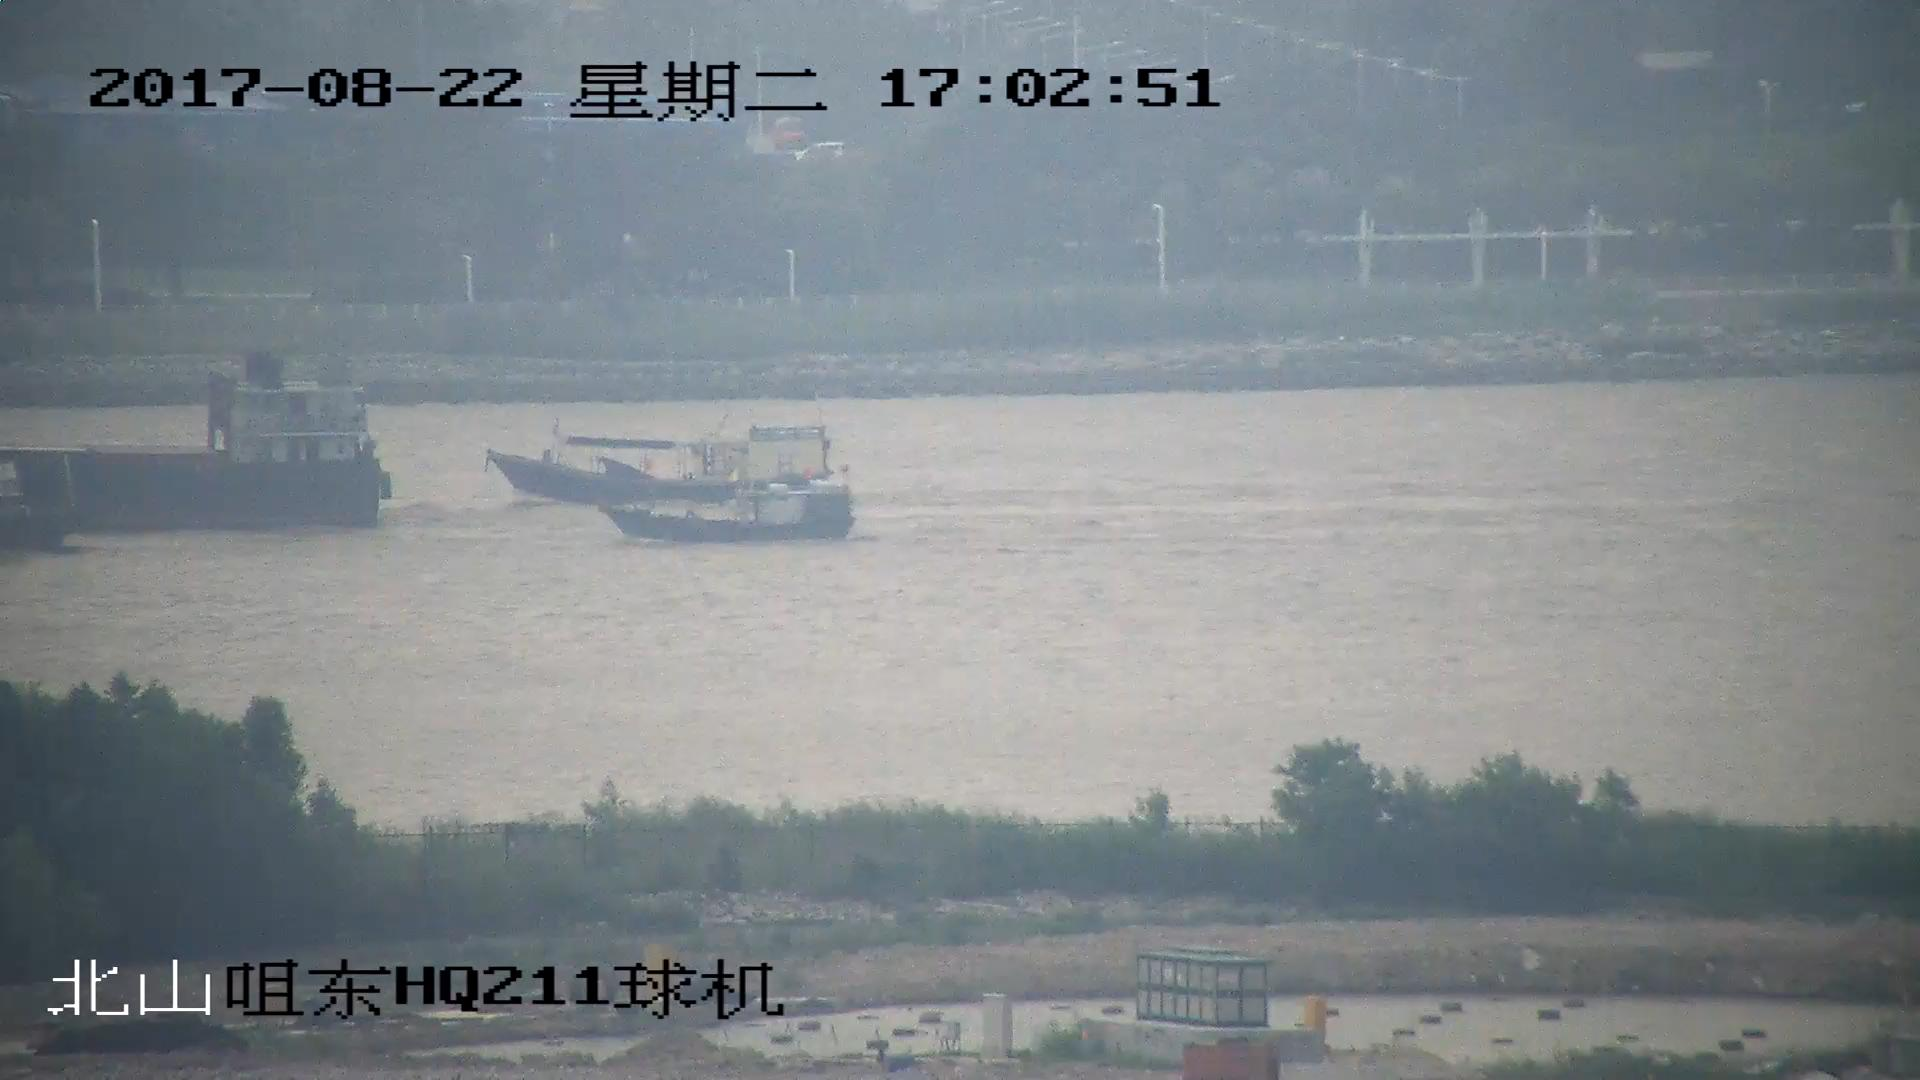fishing boat: (484, 425, 833, 503), (610, 476, 857, 542)
